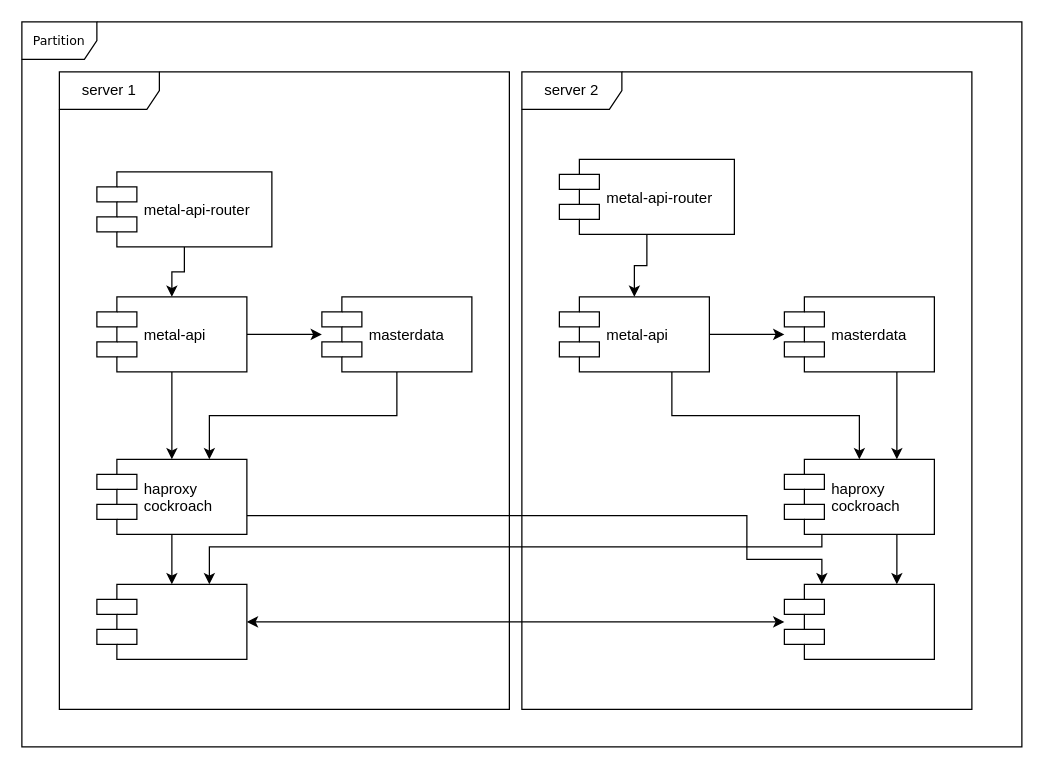
This 1044x769 diagram has some shape labels left out. The centre of each missing label's shape, as x and y in pixels:
cockroach 1: point 171,621
cockroach 2: point 858,621
